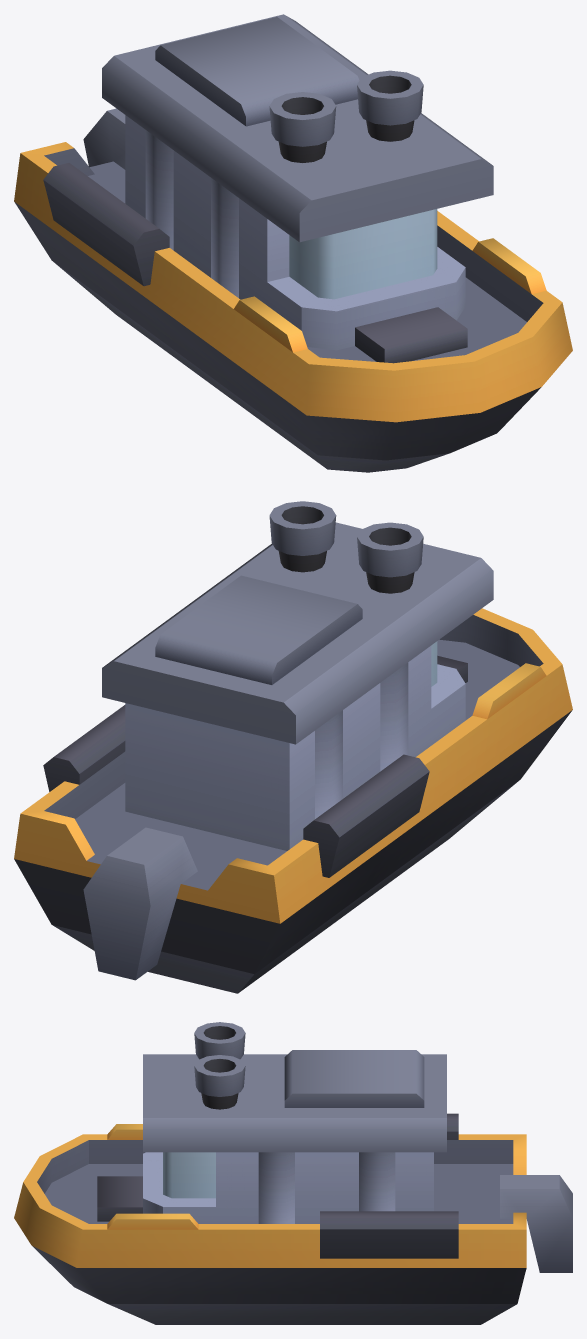
File: boat-tow-b-transformed.glb
3 renders of one model, top to bottom at view 1: azimuth 30°, elevation 25°; view 2: azimuth 150°, elevation 25°; view 3: azimuth 270°, elevation 25°, orthographic. The views are drawn at different scales.
Parts seen in each view (by area): view 1: boat-tow-b; view 2: boat-tow-b; view 3: boat-tow-b.
Boxes of the visible parts, x1=… form: boat-tow-b: x1=14, y1=14, x2=572, y2=472; boat-tow-b: x1=14, y1=501, x2=572, y2=993; boat-tow-b: x1=14, y1=1022, x2=572, y2=1324.
Size of the model in its own units: 2.88 by 3.05 by 6.12.
1 material, 1 textured.
